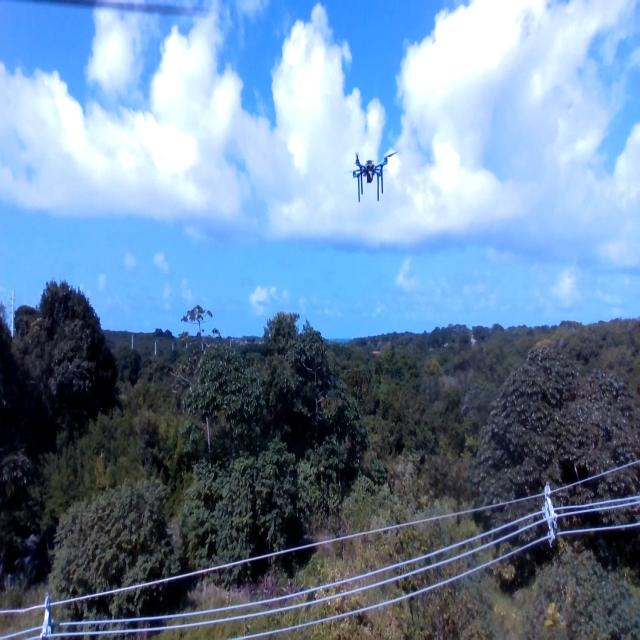-uav-: (338, 135, 402, 211)
